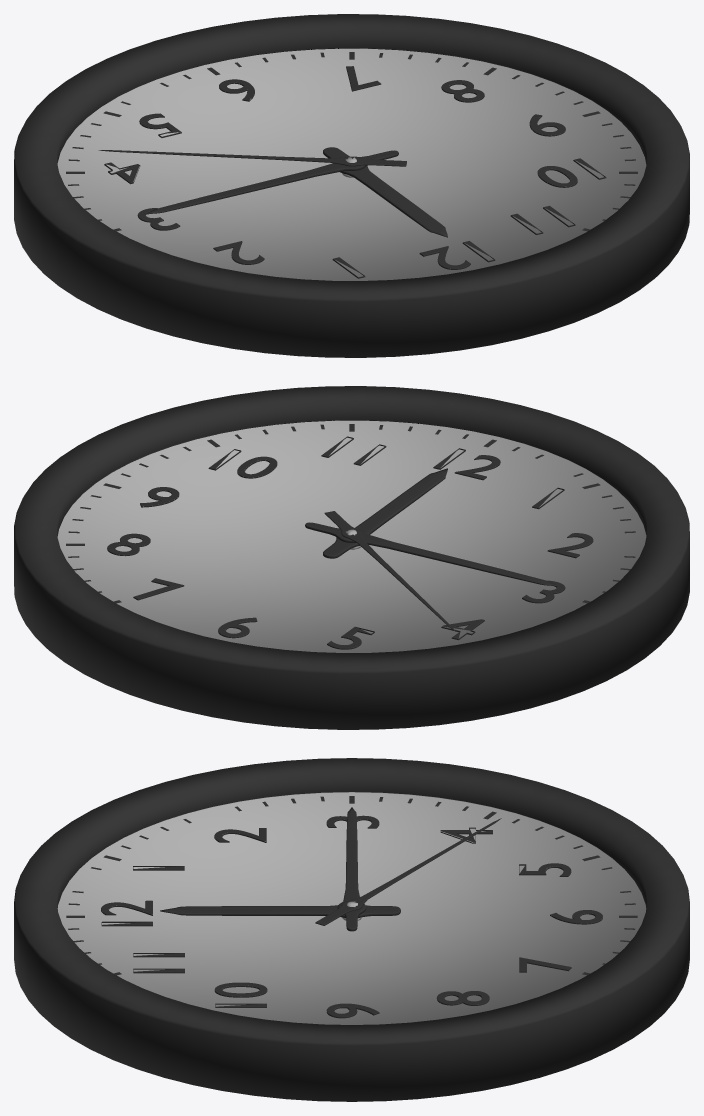
Rendered from Clock.fbx.
The picture shows the model from 3 angles, top to bottom: view 1: azimuth 30°, elevation 25°; view 2: azimuth 150°, elevation 25°; view 3: azimuth 270°, elevation 25°; orthographic projection.
Parts seen in each view (by area): view 1: clock main; view 2: clock main; view 3: clock main.
Part boxes in pixels (left/top/right/bottom): clock main: left=14, top=14, right=689, bottom=357; clock main: left=14, top=386, right=689, bottom=729; clock main: left=14, top=758, right=689, bottom=1101.
Bounding box in the file's own units: 0.2858 × 0.2858 × 0.0274.
1 material, 1 textured.
